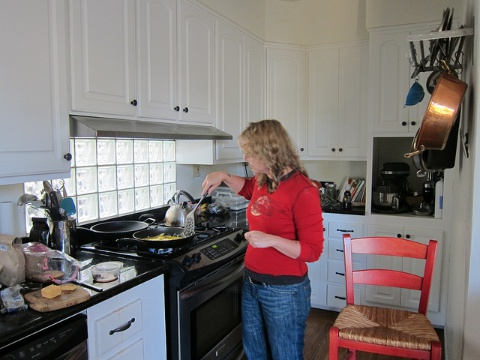hand: (201, 170, 227, 198), (243, 229, 271, 249)
